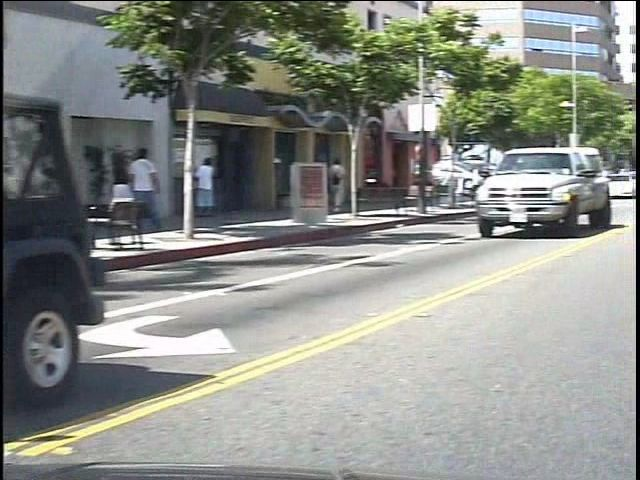person: (123, 147, 153, 237), (211, 145, 235, 228), (143, 144, 177, 200), (343, 155, 364, 216)
